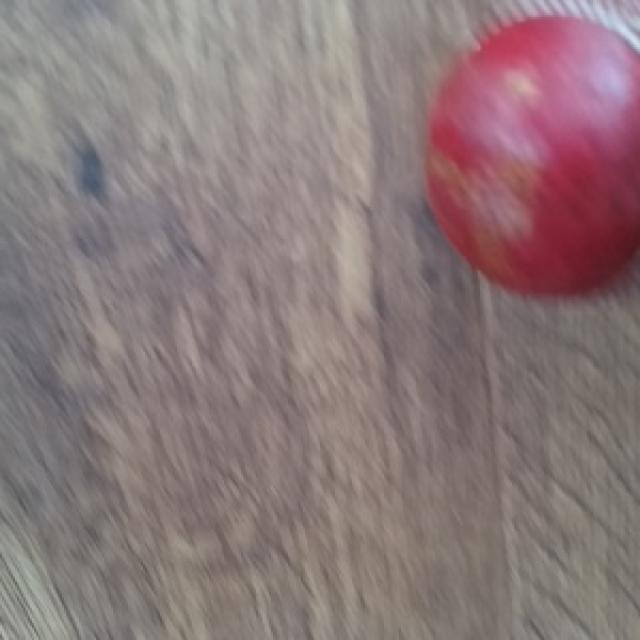ball: (422, 15, 640, 299)
